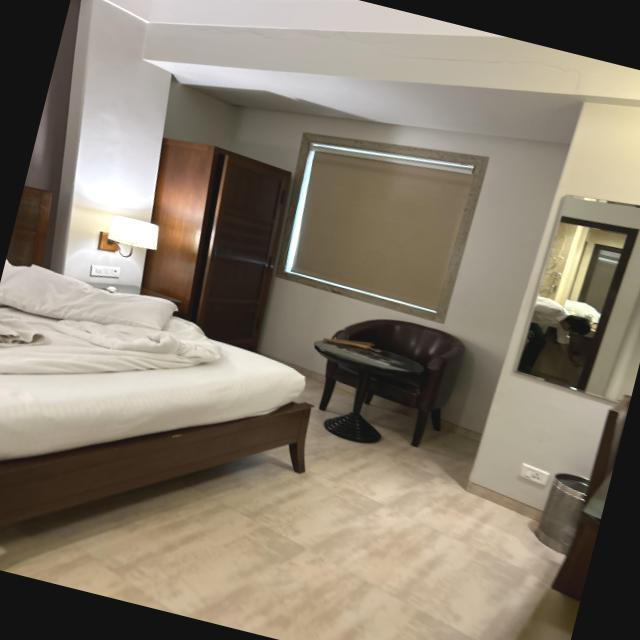mess: (0, 217, 328, 631)
